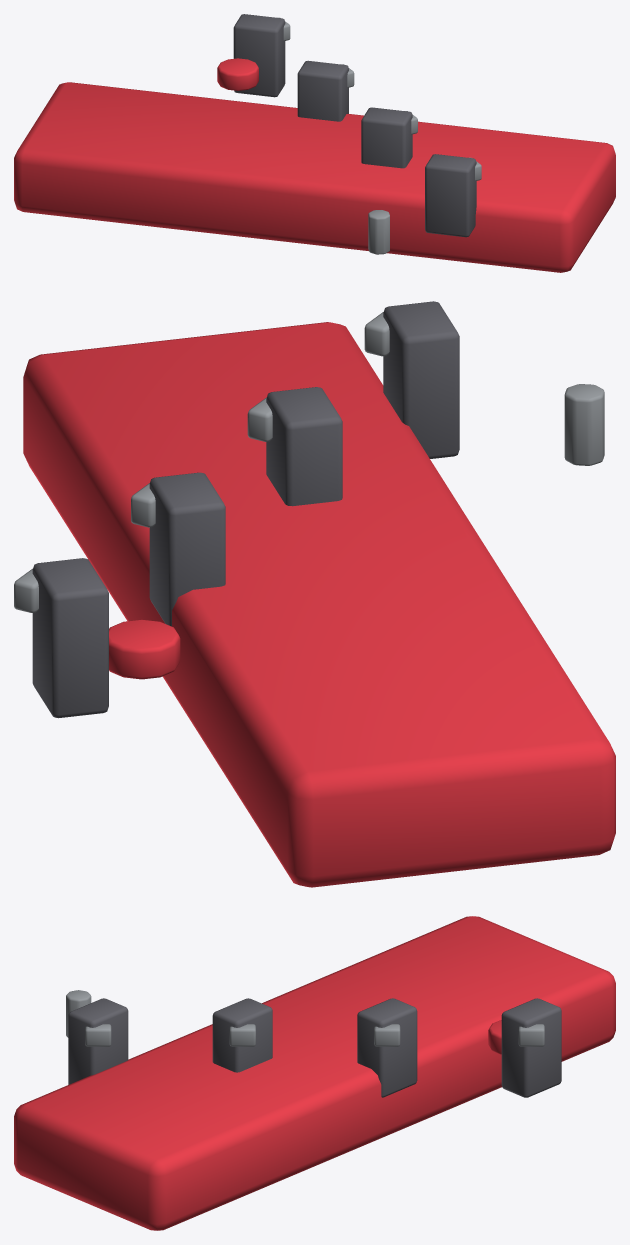
Rendered from engine_v8_valvecover_r.glb.
3 views of the same model, one above another, from view 1: azimuth 30°, elevation 25°; view 2: azimuth 150°, elevation 25°; view 3: azimuth 270°, elevation 25° (orthographic). The views are drawn at different scales.
Visible parts, largest first — view 1: Engine_V8_ValveCover_R; view 2: Engine_V8_ValveCover_R; view 3: Engine_V8_ValveCover_R.
Part boxes in pixels (<box>): Engine_V8_ValveCover_R: <box>14,14,615,272</box>; Engine_V8_ValveCover_R: <box>14,301,615,887</box>; Engine_V8_ValveCover_R: <box>14,916,615,1230</box>.
Bounding box in the file's own units: 0.4584 × 0.1025 × 0.4584.
